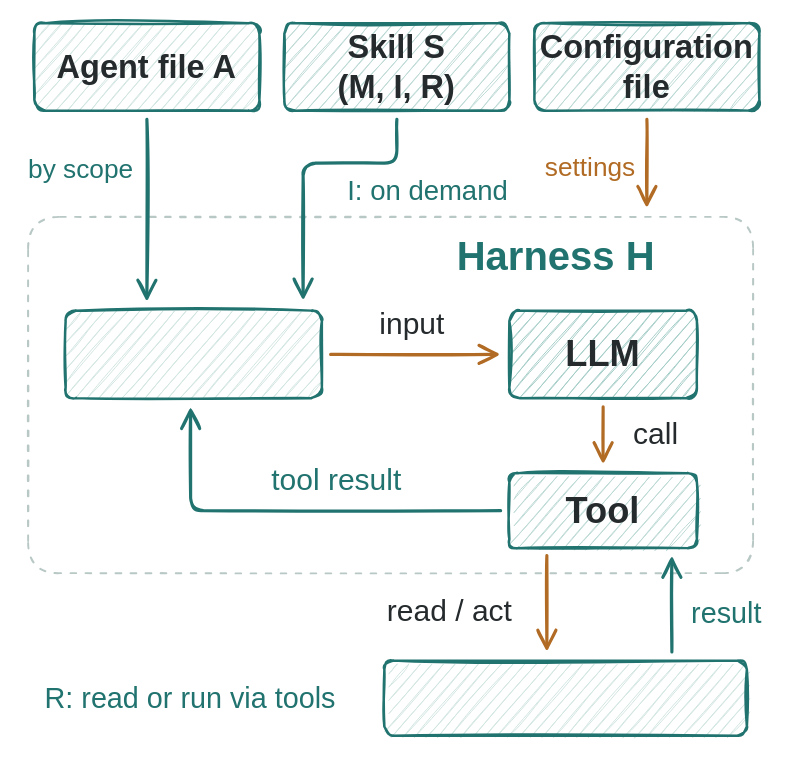
Image size: 796x758. Some labels were removed from this diagram. The centre of each missing label's shape, as x and y in pixels:
Context: point (193, 354)
Environment: point (565, 697)
